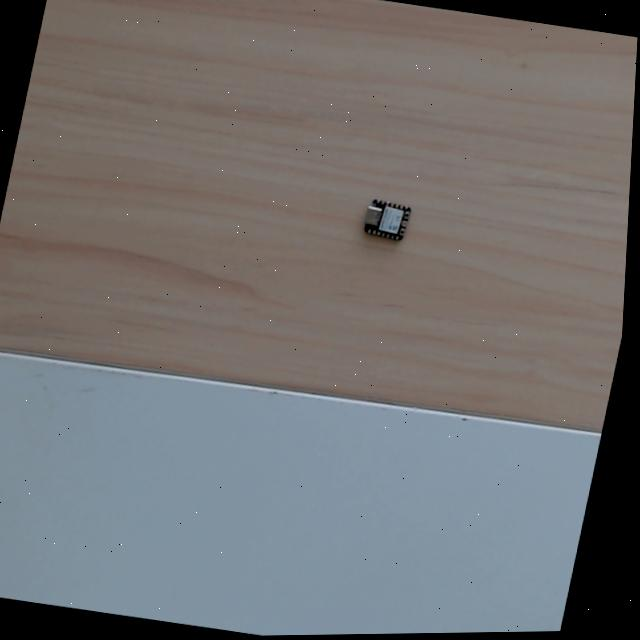ESP32C3-Xiao: (360, 194, 415, 247)
